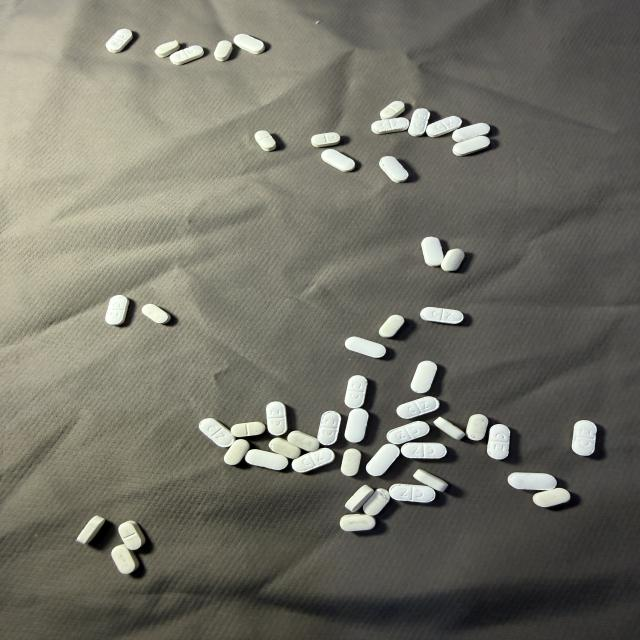pill: (366, 444, 399, 476), (292, 448, 334, 472), (199, 419, 235, 447), (387, 421, 429, 444), (397, 397, 439, 419), (345, 337, 386, 358), (245, 450, 288, 470), (411, 361, 437, 393), (389, 484, 435, 502), (508, 473, 556, 490), (572, 421, 596, 455), (77, 516, 105, 544), (112, 545, 139, 574), (345, 485, 374, 512), (345, 408, 368, 442), (487, 425, 510, 459), (321, 149, 355, 172), (318, 411, 340, 446), (379, 157, 408, 183), (119, 521, 145, 550), (453, 136, 490, 156), (426, 116, 461, 137), (345, 375, 367, 408), (105, 295, 129, 325), (421, 307, 463, 324), (414, 470, 448, 491), (402, 443, 446, 459), (533, 488, 570, 507), (453, 123, 490, 142), (363, 489, 389, 516), (269, 438, 301, 459), (267, 402, 287, 435), (170, 45, 203, 65), (434, 417, 464, 439), (287, 431, 319, 451), (408, 108, 430, 137), (224, 440, 249, 465), (422, 237, 443, 266), (234, 34, 264, 54), (106, 29, 132, 52), (340, 514, 375, 531), (372, 118, 409, 134), (466, 414, 488, 440), (379, 315, 404, 337), (341, 449, 361, 476), (142, 304, 170, 323), (231, 422, 265, 437), (441, 249, 464, 271), (154, 40, 180, 58), (380, 101, 405, 119), (255, 130, 276, 151), (311, 133, 340, 147), (214, 40, 232, 61)
